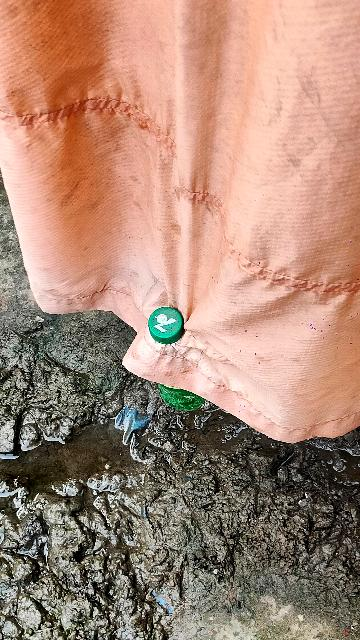bottle: (147, 297, 205, 417)
